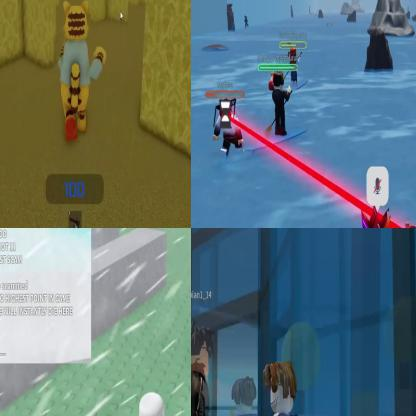Roblox-Avatar: (59, 1, 108, 142), (192, 320, 227, 416), (255, 361, 313, 416), (214, 99, 245, 161), (221, 375, 262, 416), (273, 72, 292, 137), (289, 48, 302, 90)
